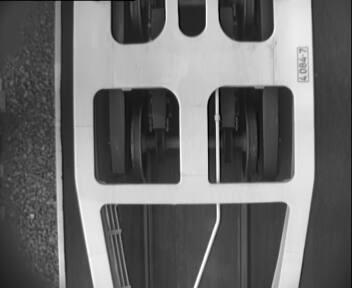twist_lock_2: (103, 1, 278, 48)
